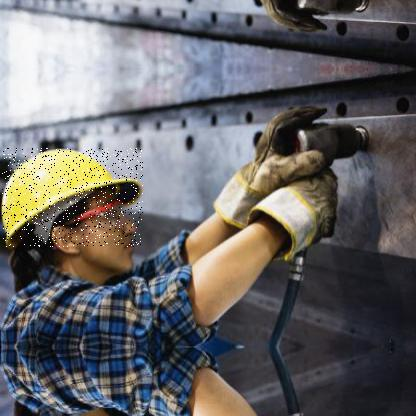safetyhelmet: (2, 148, 144, 249)
